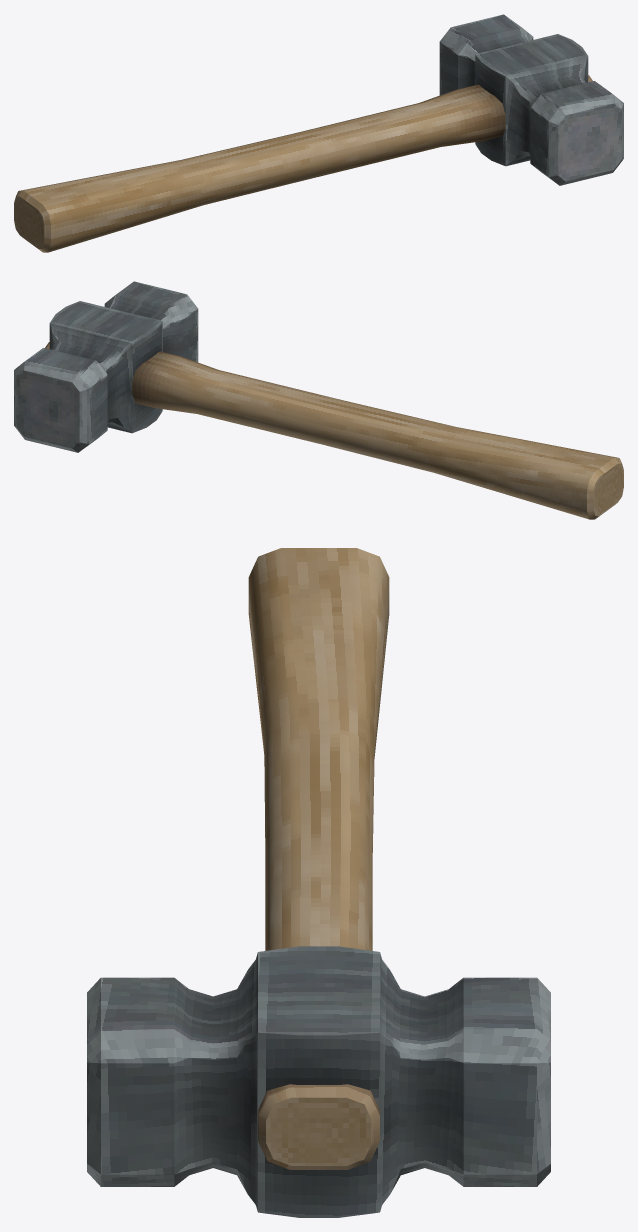
3 views of the same model, one above another, from view 1: azimuth 30°, elevation 25°; view 2: azimuth 150°, elevation 25°; view 3: azimuth 270°, elevation 25° (orthographic). The views are drawn at different scales.
Parts seen in each view (by area): view 1: hammer; view 2: hammer; view 3: hammer.
Boxes of the visible parts, <box> form: hammer: <box>14,14,623,252</box>; hammer: <box>14,281,623,519</box>; hammer: <box>87,548,550,1217</box>.
Bounding box in the file's own units: 29.41 × 4.64 × 10.68.
1 material, 1 textured.
